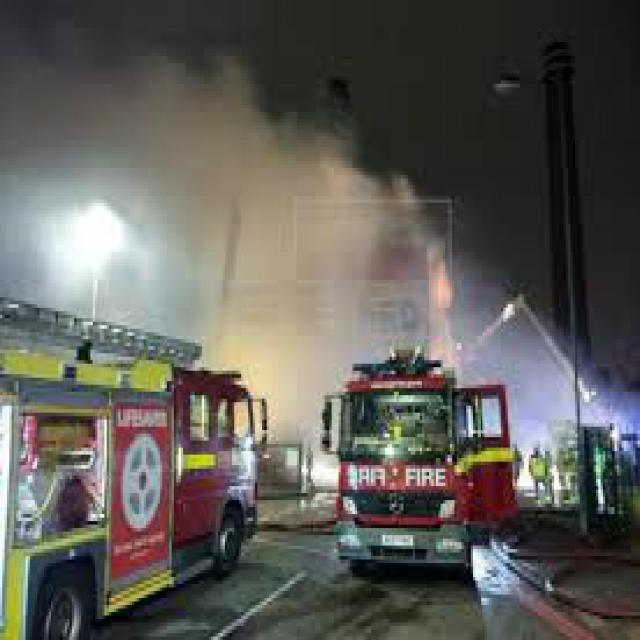smoke: (137, 84, 450, 350)
